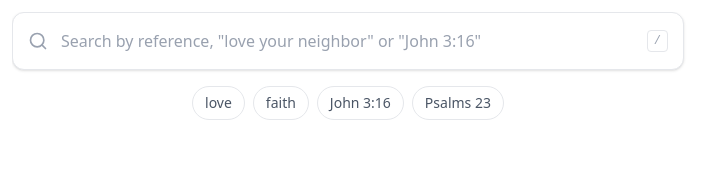
Scenario: SearchBar › clears the query
This screenshot has width=707, height=172.
Type "love" into the field with placeholder "Search by reference, \"love your neighbor\" or \"John 3:16\"".
click(348, 41); type("love")  # box [12,12,684,70]
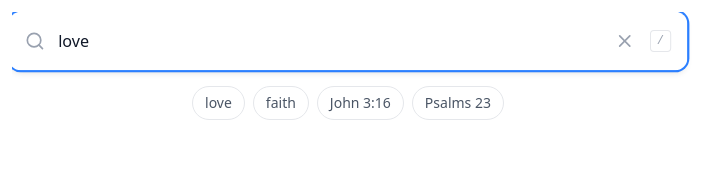
Click the button named "Clear search".
click(625, 41)  # box [602,19,647,63]
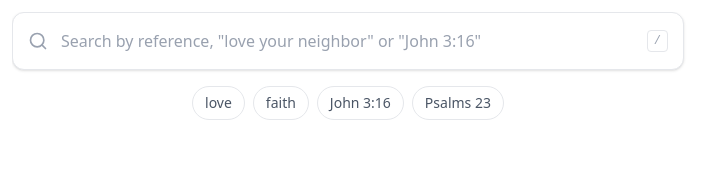
Result: the field with placeholder "Search by reference, \"love your neighbor\" or \"John 3:16\"" is empty at [12,12,684,70]
